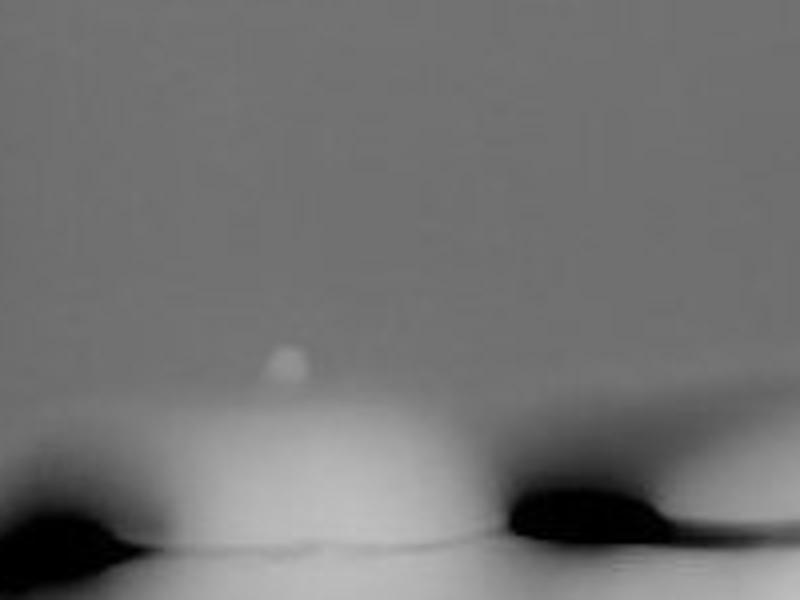defect: (4, 507, 156, 600), (505, 483, 686, 556)
